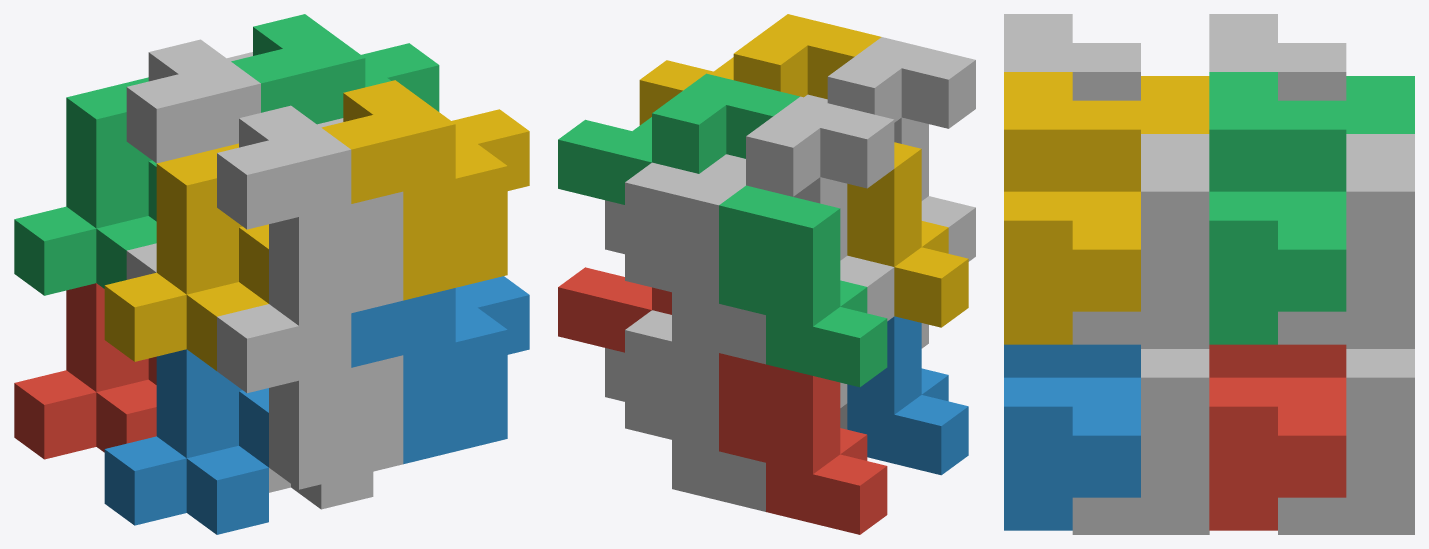
File: tiling.obj
3 views of the same model, side by side, from view 1: azimuth 30°, elevation 25°; view 2: azimuth 150°, elevation 25°; view 3: azimuth 270°, elevation 25° (orthographic). The views are drawn at different scales.
Parts seen in each view (by area): view 1: copy_2_domain_8, copy_2_domain_4, copy_2_domain_2, copy_2_domain_6, copy_1_domain_2, copy_1_domain_4, copy_1_domain_3, copy_1_domain_1, copy_2_domain_7, copy_2_domain_3, copy_1_domain_6, copy_2_domain_1; view 2: copy_1_domain_3, copy_1_domain_1, copy_1_domain_7, copy_1_domain_5, copy_2_domain_7, copy_2_domain_3, copy_1_domain_4, copy_1_domain_2, copy_2_domain_4, copy_2_domain_8, copy_2_domain_5, copy_2_domain_2 (+1 smaller); view 3: copy_2_domain_7, copy_2_domain_8, copy_2_domain_5, copy_2_domain_6, copy_1_domain_8, copy_1_domain_7, copy_1_domain_6, copy_1_domain_5, copy_2_domain_3, copy_2_domain_4, copy_1_domain_3, copy_1_domain_4.
Boxes of the visible parts, x1=… form: copy_2_domain_8: x1=321, y1=80, x2=529, y2=300; copy_2_domain_4: x1=217, y1=105, x2=403, y2=325; copy_2_domain_2: x1=217, y1=304, x2=403, y2=489; copy_2_domain_6: x1=351, y1=276, x2=529, y2=464; copy_1_domain_2: x1=104, y1=349, x2=268, y2=534; copy_1_domain_4: x1=104, y1=143, x2=268, y2=370; copy_1_domain_3: x1=14, y1=77, x2=156, y2=295; copy_1_domain_1: x1=14, y1=283, x2=156, y2=459; copy_2_domain_7: x1=231, y1=14, x2=439, y2=124; copy_2_domain_3: x1=126, y1=39, x2=260, y2=163; copy_1_domain_6: x1=269, y1=468, x2=373, y2=509; copy_2_domain_1: x1=126, y1=243, x2=156, y2=279; copy_1_domain_3: x1=719, y1=185, x2=887, y2=387; copy_1_domain_1: x1=719, y1=353, x2=887, y2=534; copy_1_domain_7: x1=605, y1=162, x2=765, y2=364; copy_1_domain_5: x1=605, y1=310, x2=765, y2=511; copy_2_domain_7: x1=558, y1=73, x2=799, y2=204; copy_2_domain_3: x1=699, y1=96, x2=894, y2=260; copy_1_domain_4: x1=847, y1=142, x2=968, y2=327; copy_1_domain_2: x1=847, y1=316, x2=968, y2=475; copy_2_domain_4: x1=804, y1=37, x2=975, y2=200; copy_2_domain_8: x1=639, y1=14, x2=881, y2=125; copy_2_domain_5: x1=558, y1=267, x2=671, y2=352; copy_2_domain_2: x1=921, y1=196, x2=975, y2=348; copy_2_domain_7: x1=1209, y1=72, x2=1346, y2=344; copy_2_domain_8: x1=1004, y1=72, x2=1140, y2=344; copy_2_domain_5: x1=1209, y1=344, x2=1346, y2=530; copy_2_domain_6: x1=1004, y1=344, x2=1140, y2=530; copy_1_domain_8: x1=1072, y1=134, x2=1209, y2=348; copy_1_domain_7: x1=1278, y1=134, x2=1414, y2=348; copy_1_domain_6: x1=1072, y1=349, x2=1209, y2=534; copy_1_domain_5: x1=1278, y1=349, x2=1414, y2=534; copy_2_domain_3: x1=1209, y1=14, x2=1346, y2=100; copy_2_domain_4: x1=1004, y1=14, x2=1140, y2=100; copy_1_domain_3: x1=1346, y1=76, x2=1414, y2=133; copy_1_domain_4: x1=1141, y1=76, x2=1209, y2=133.
Size of the model in its own units: 7 by 7 by 6.
